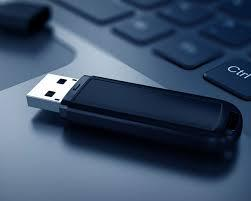Flash-drive: (20, 42, 244, 170)
